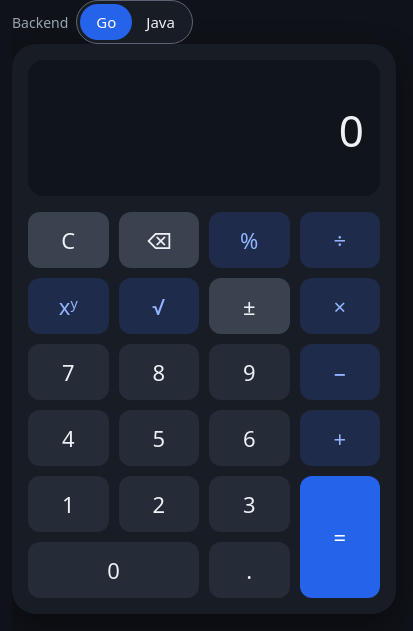
Test: CalculatorPanel backend routing › does not fail over on contract errors
The width and height of the screenshot is (413, 631).
Click the button "5". click: coordinates (159, 438)
box: left=118, top=410, right=199, bottom=466
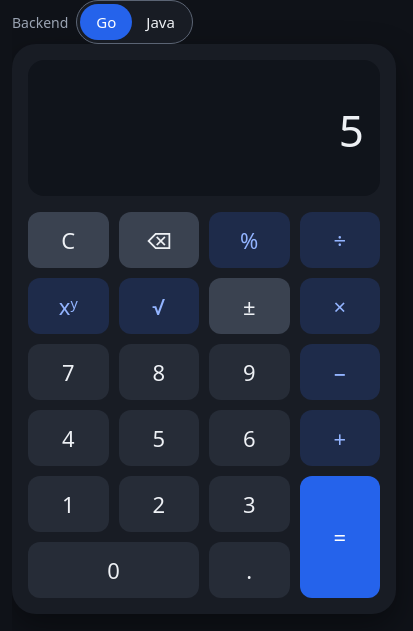
Click the button named "divide". click: coordinates (340, 240)
box: left=300, top=212, right=380, bottom=268
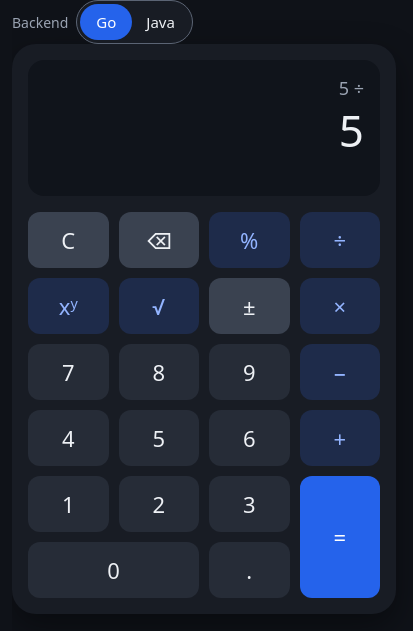
Click the button "0". click: coordinates (114, 570)
box: left=28, top=542, right=199, bottom=598
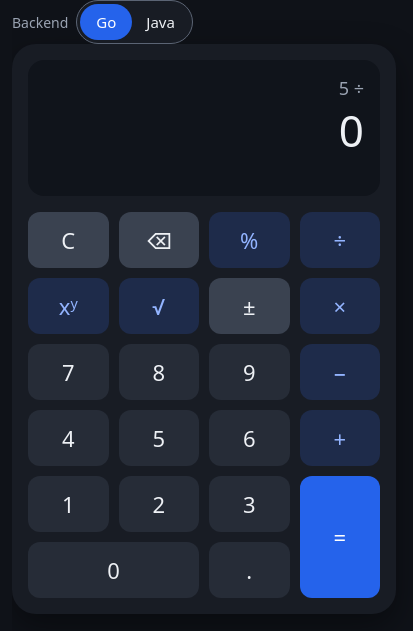
Click the button named "equals". click: coordinates (340, 537)
box: left=300, top=476, right=380, bottom=598
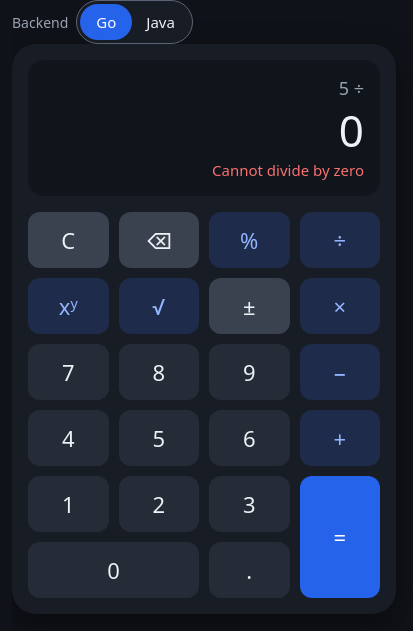
Now the text "Cannot divide by zero" is shown, box left=212, top=160, right=364, bottom=180
